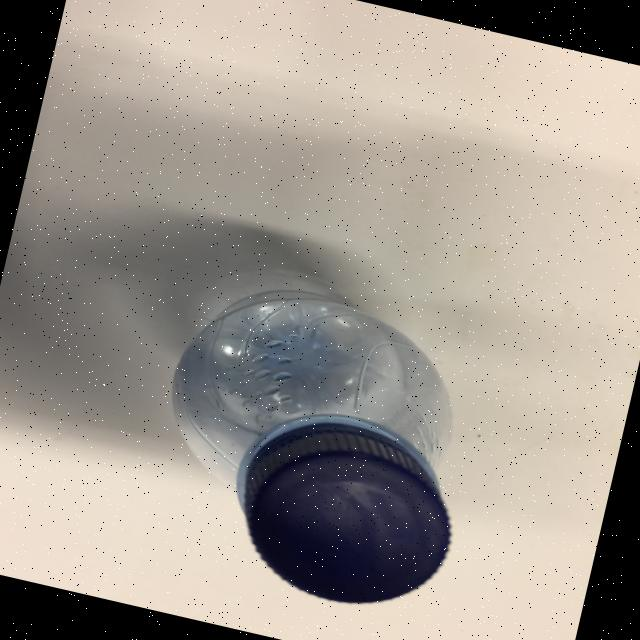plastic: (130, 264, 500, 624)
